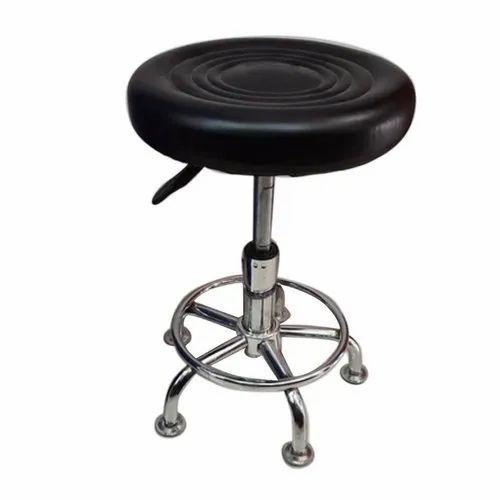stool: (125, 34, 416, 467)
